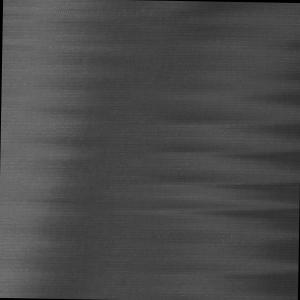Wrinkle: (136, 1, 300, 300), (10, 1, 132, 300)
